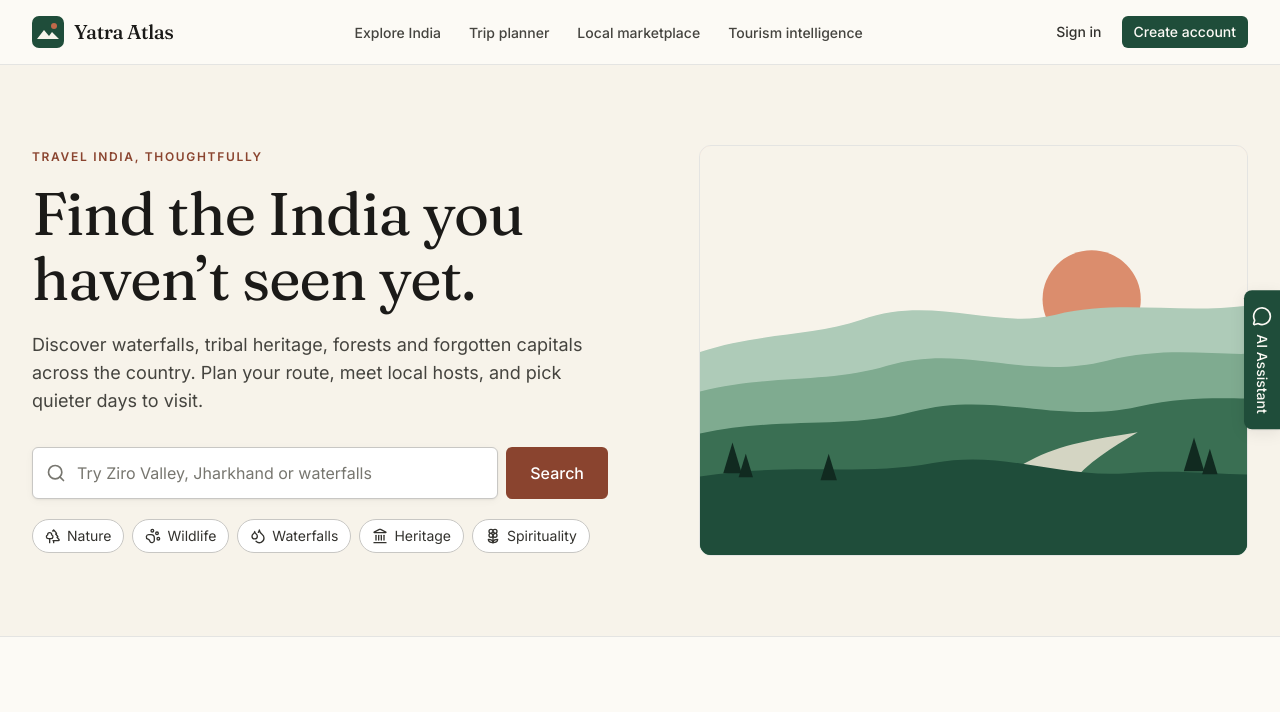
Test: routing and layout › hero search navigates to Explore with the query in the URL
Type "Ziro Valley" into the search field at (265, 472), box [32,446,498,498]
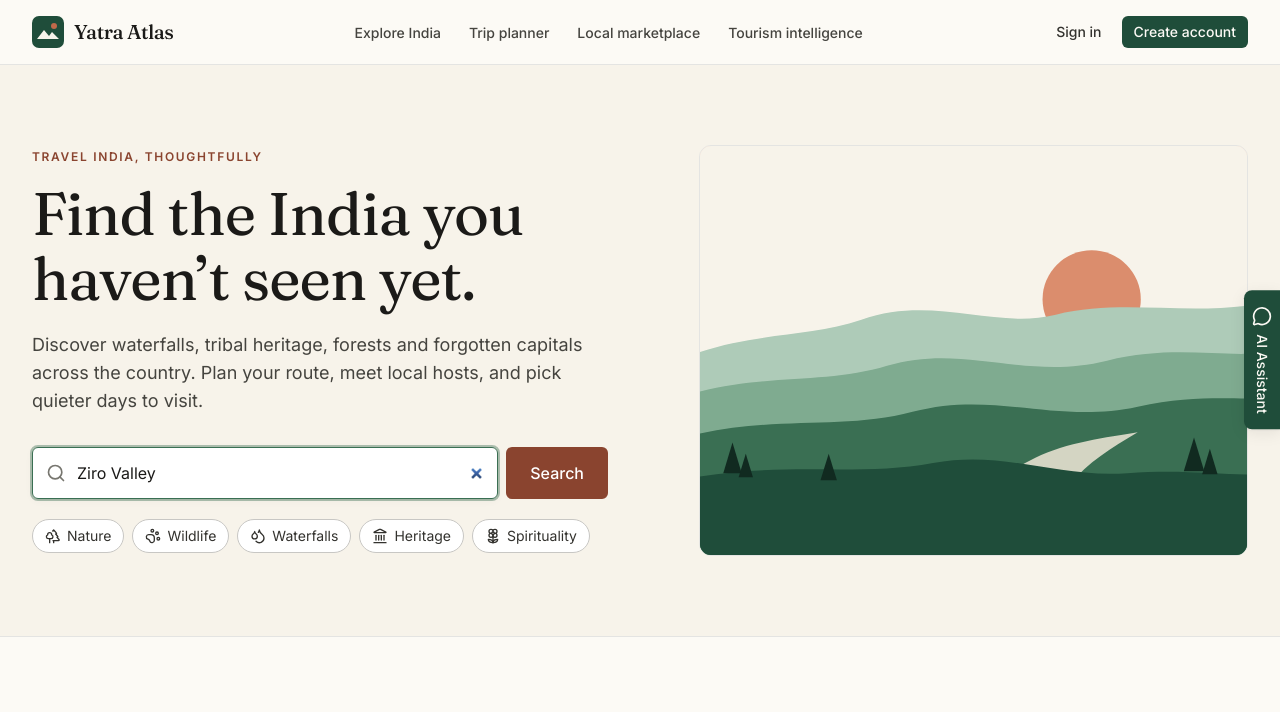
Click the button "Search" at (557, 472), box [506,446,608,498]
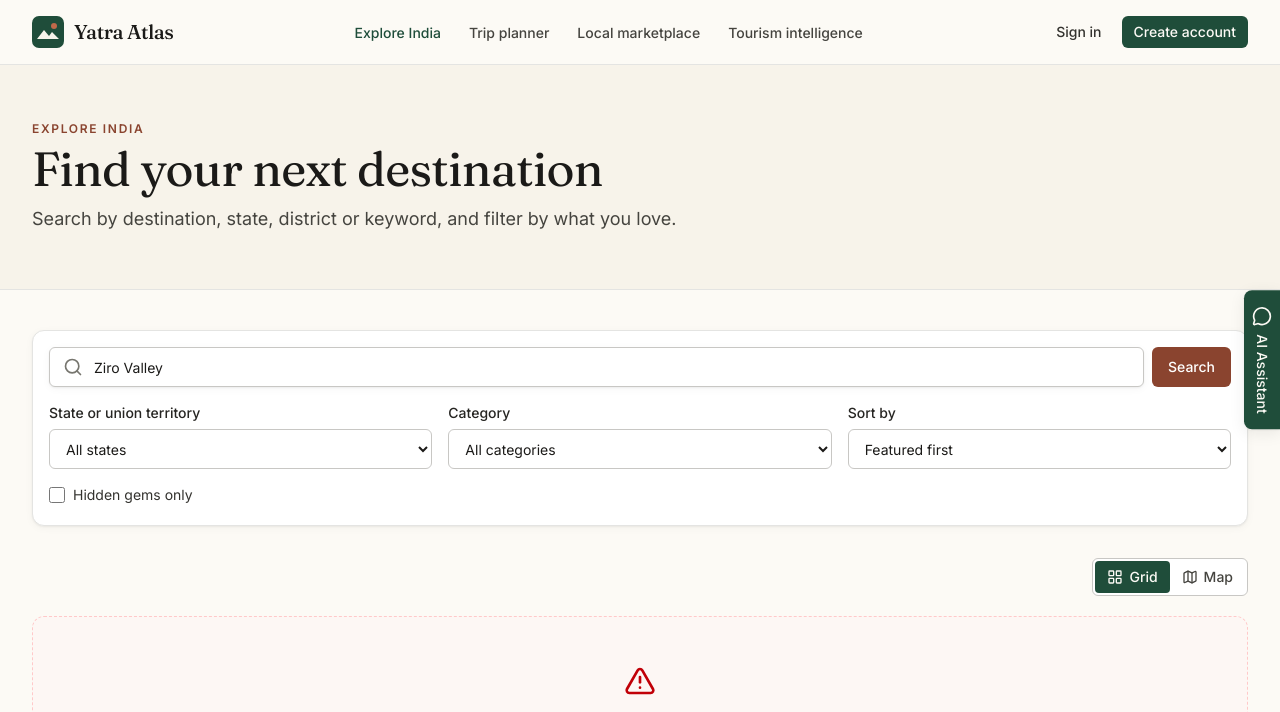
Result: the search field holds "Ziro Valley" at [49,347,1144,387]
Result: the heading "Find your next destination" is shown at [32,145,676,193]
